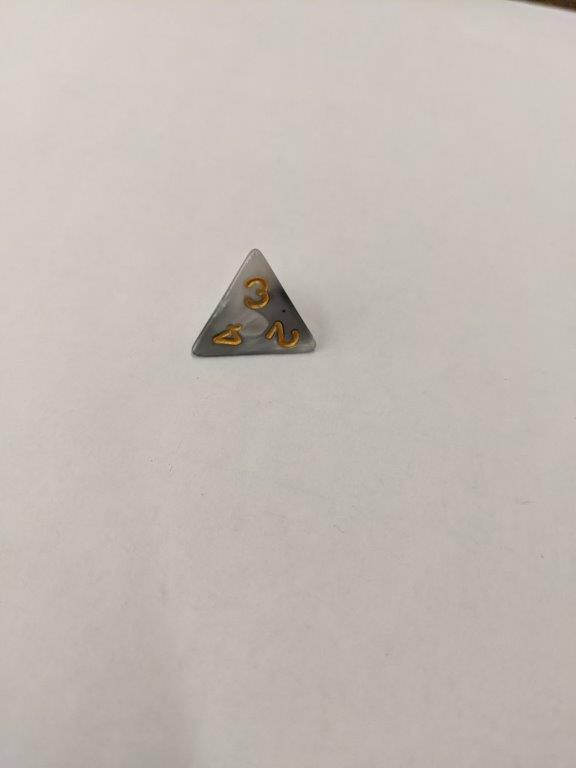d4-3: (185, 244, 328, 364)
